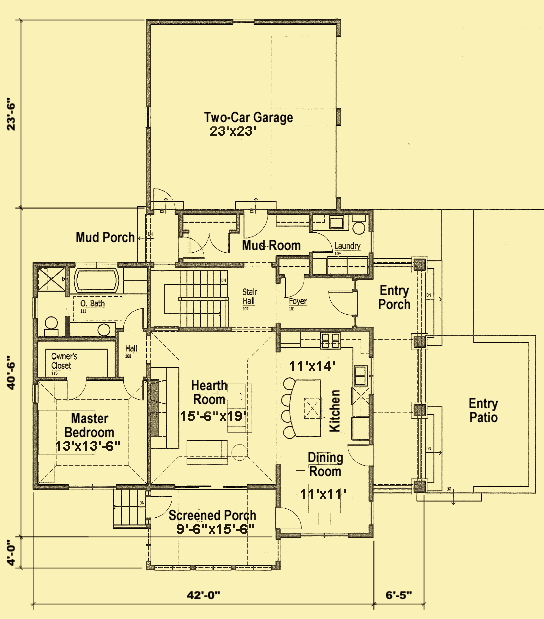bathroom has bathtub, small and large sinks with shower space: (30, 261, 152, 344)
laundry room has washer and dryer: (308, 211, 377, 281)
open area has stairs: (151, 263, 277, 353)
this kitchen has a kitchen bar with twin sink and cooking range: (275, 325, 374, 447)
